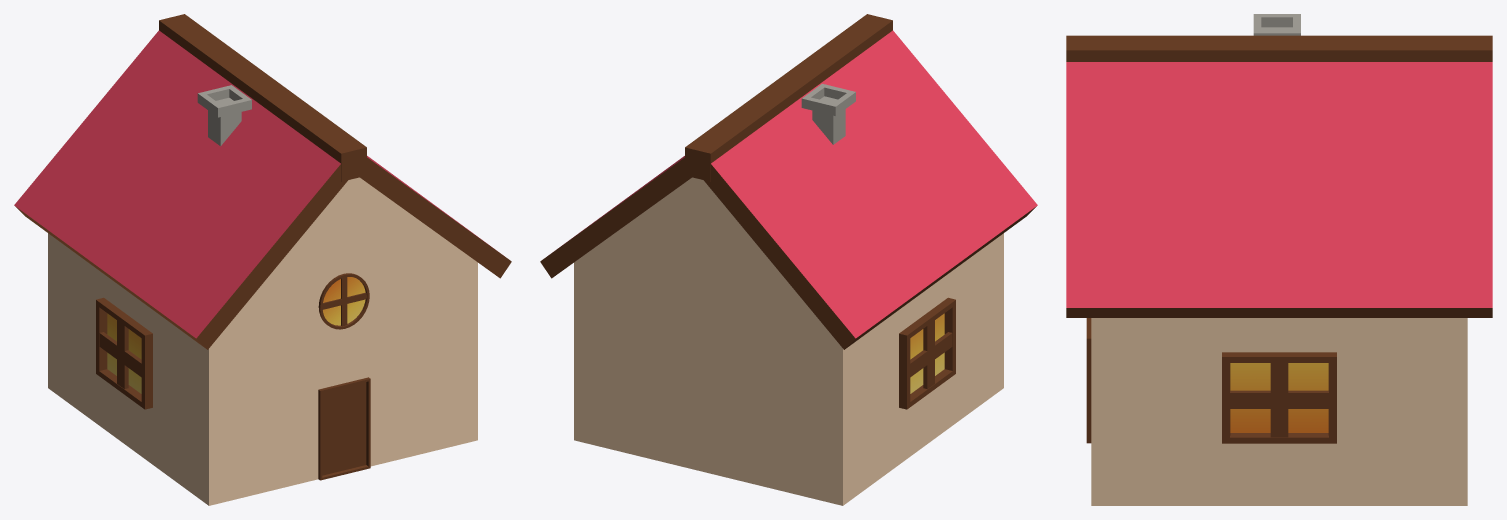
Rendered from 3d-fullana-bernat-casa.glb.
3 views of the same model, side by side, from view 1: azimuth 30°, elevation 25°; view 2: azimuth 150°, elevation 25°; view 3: azimuth 270°, elevation 25° (orthographic). The views are drawn at different scales.
Parts seen in each view (by area): view 1: Cube.003; view 2: Cube.003; view 3: Cube.003.
Boxes of the visible parts, <box> form: Cube.003: <box>14,14,511,505</box>; Cube.003: <box>540,14,1037,505</box>; Cube.003: <box>1066,14,1492,505</box>.
Size of the model in its own units: 4.6 by 4.6 by 4.6.
Materials: 1 (1 with a texture image).
